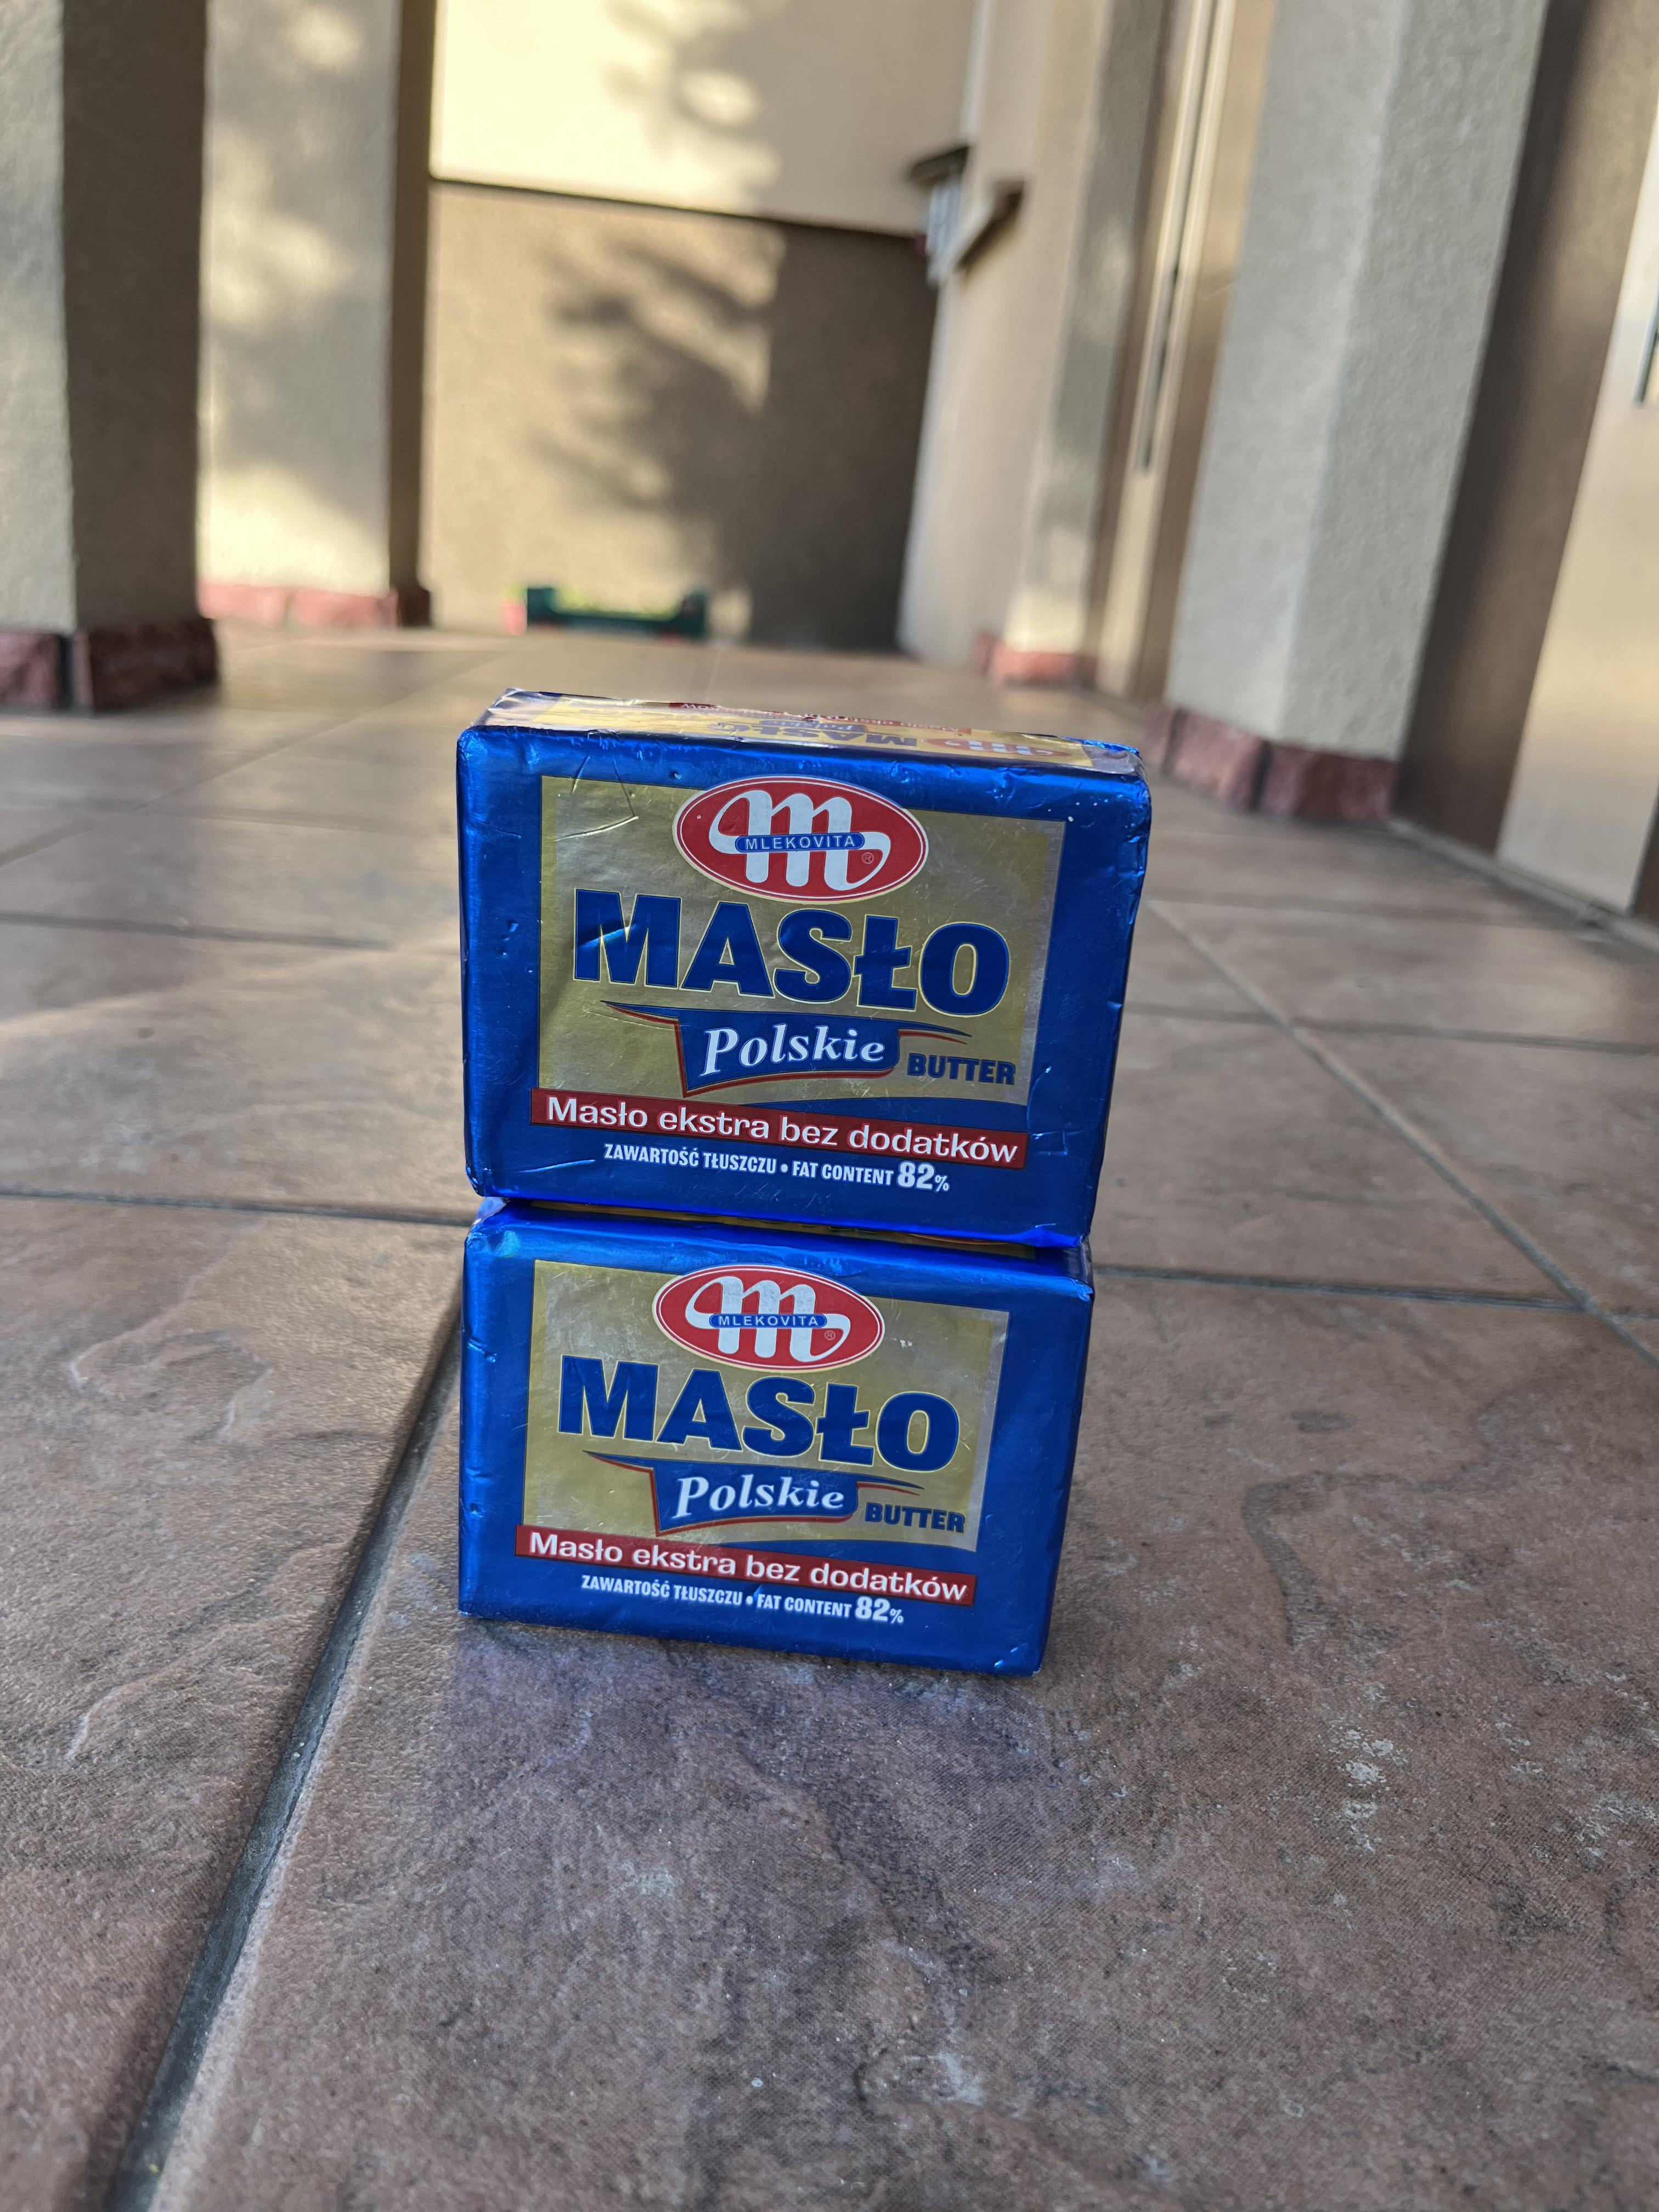Butter: (472, 702, 1126, 1224), (460, 1230, 1091, 1674)
